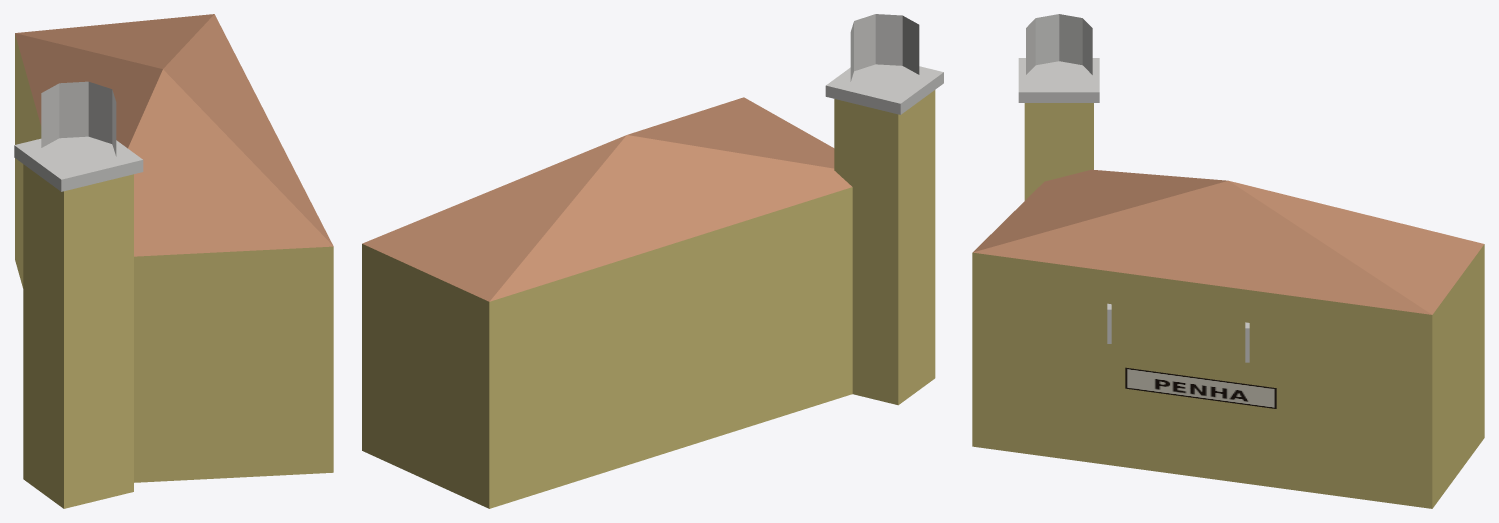
Rendered from ora_penha.glb.
The picture shows the model from 3 angles, left to right: view 1: azimuth 30°, elevation 25°; view 2: azimuth 150°, elevation 25°; view 3: azimuth 270°, elevation 25°; orthographic projection. The views are drawn at different scales.
Visible parts, largest first — view 1: penha_lod0; view 2: penha_lod0; view 3: penha_lod0.
Boxes of the visible parts, x1,y1,x2,y2 form: penha_lod0: (14, 14, 333, 508); penha_lod0: (362, 14, 943, 508); penha_lod0: (972, 14, 1484, 508).
Size of what is drawn, in the model's own units: 13.5 by 12.7 by 17.7.
Materials: 2 (1 with a texture image).
